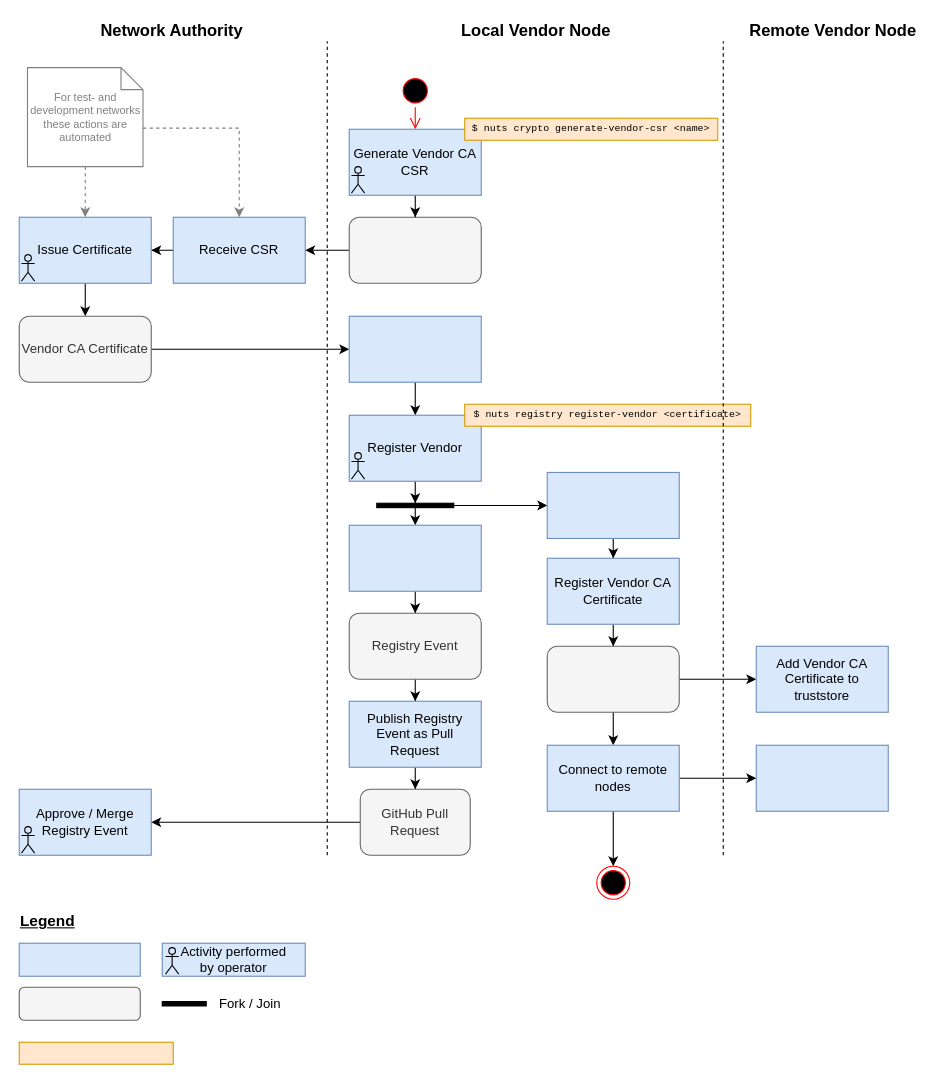
Image size: 941x1084. Some labels were removed from this diagram. The shapes that lost their labels are listed below. From the top down, each one's centre as x and y in pixels, then its label:
At pixel 414 249: "Vendor CA CSR".
At pixel 414 348: "Receive Vendor CA Certificate".
At pixel 612 504: "Issue TLS and Signing certificate".
At pixel 414 557: "Create and sign Registry event".
At pixel 612 678: "Certificate Registration".
At pixel 821 777: "Accept connection from new vendor".
At pixel 79 959: "Activity".
At pixel 79 1003: "Object".
At pixel 95 1052: "CLI command by operator".
